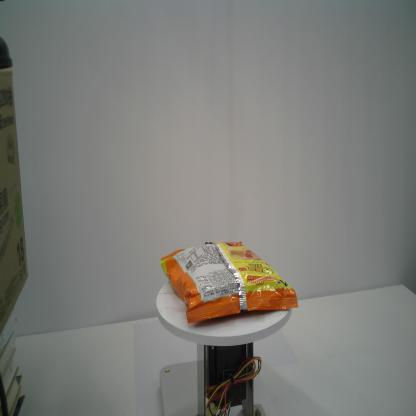Instant Noodles: (159, 239, 298, 324)
